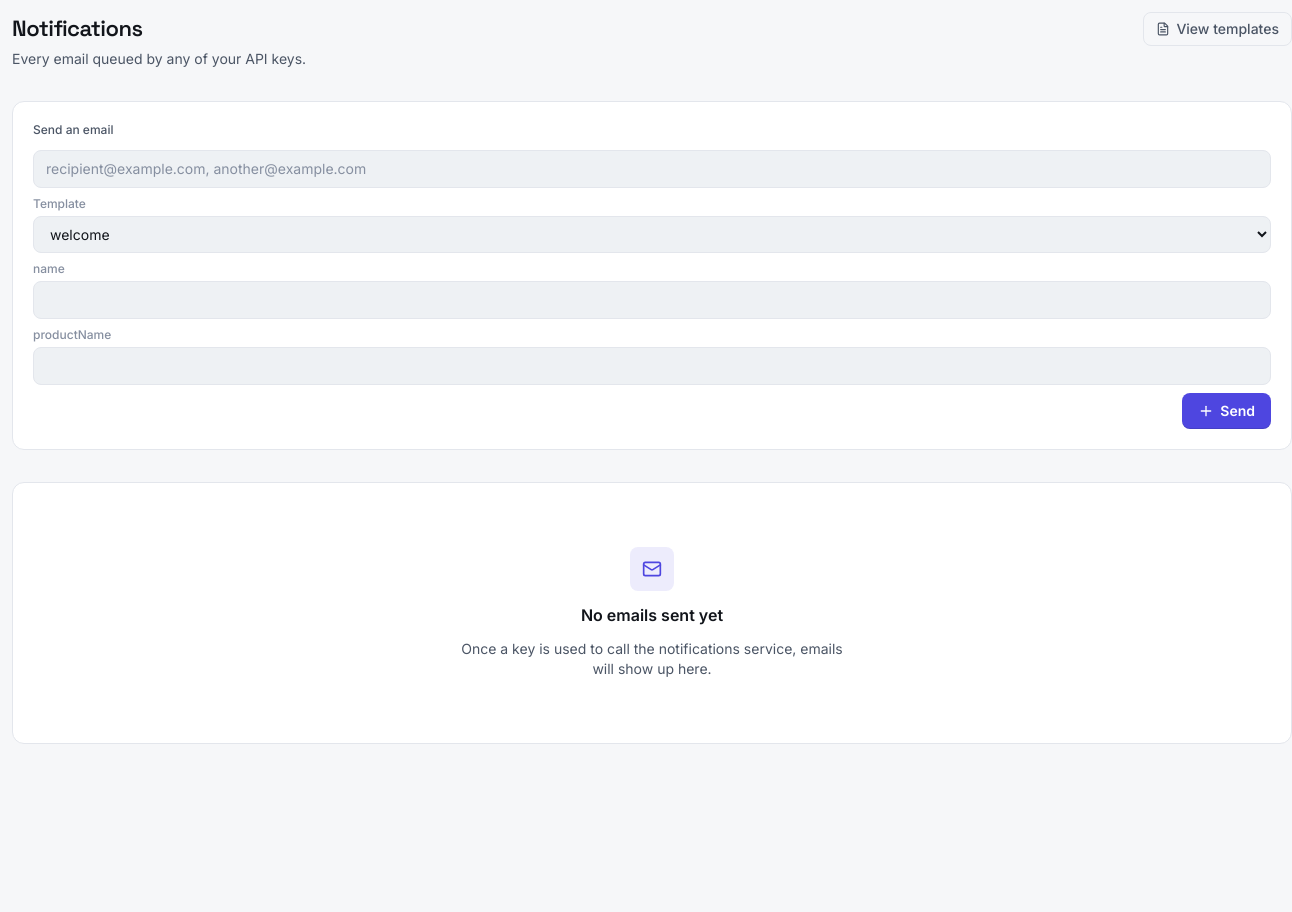
it: NotificationsPage › sends a templated email using the default template, and refreshes the list on success
This screenshot has width=1292, height=912.
expect the dropdown labelled "Template" shows "welcome": met, box left=33, top=216, right=1271, bottom=253
Type "recipient@example.com" into the field with placeholder "recipient@example.com, another@example.com" at (652, 169), box left=33, top=150, right=1271, bottom=188
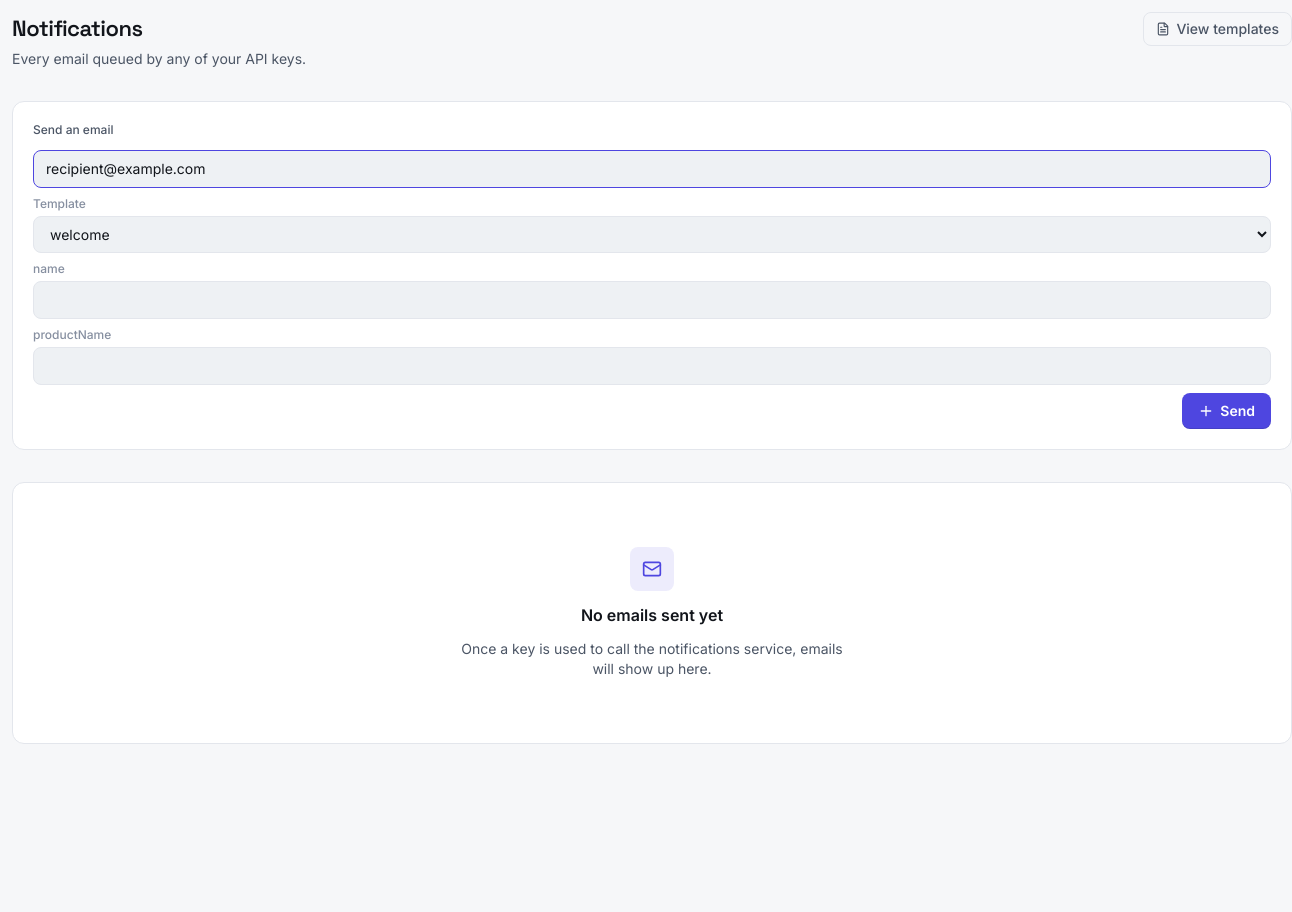
Type "Ada" into the field labelled "name" at (652, 300), box left=33, top=281, right=1271, bottom=319
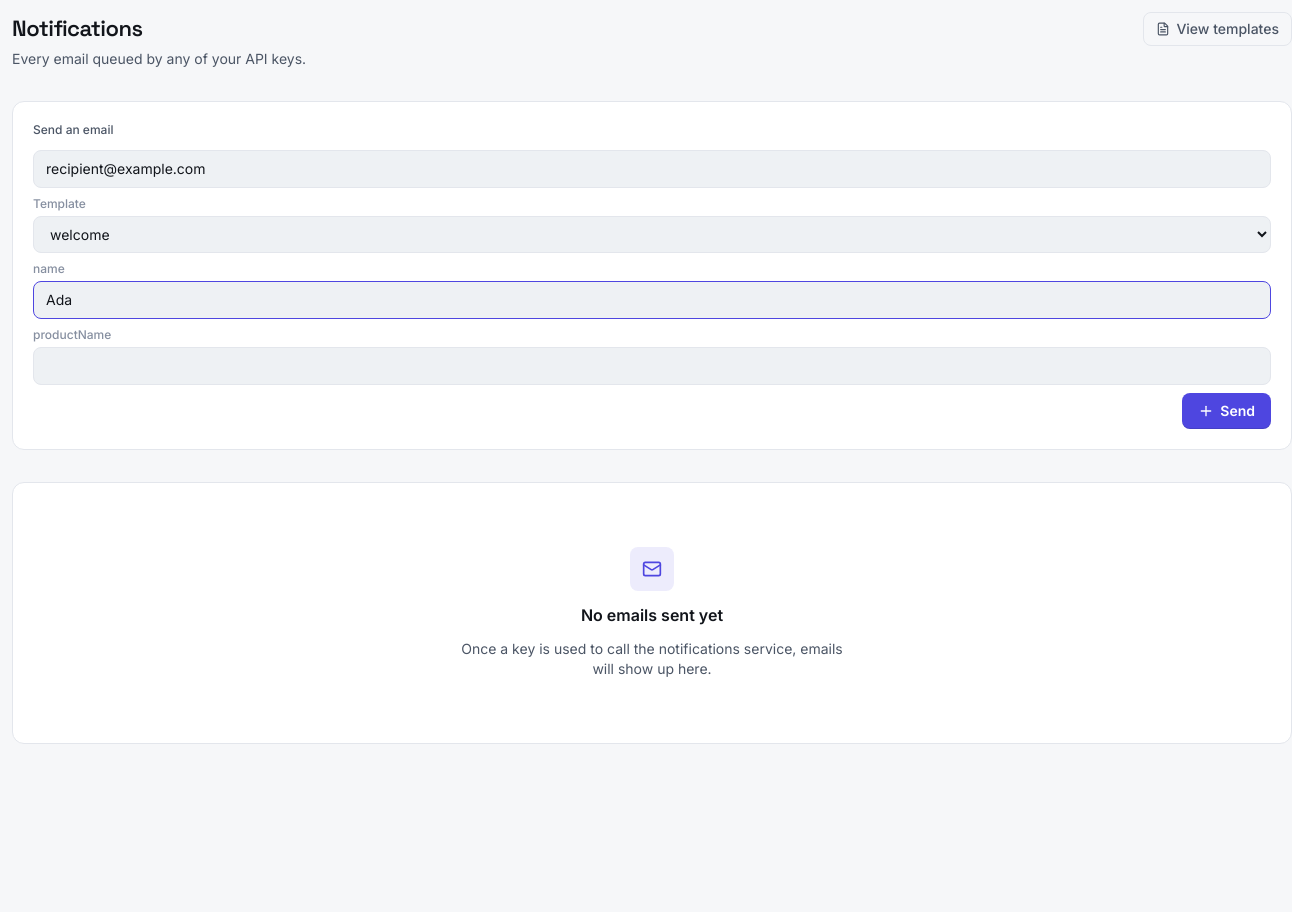
Type "Neuron" into the field labelled "productName" at (652, 366), box left=33, top=347, right=1271, bottom=385
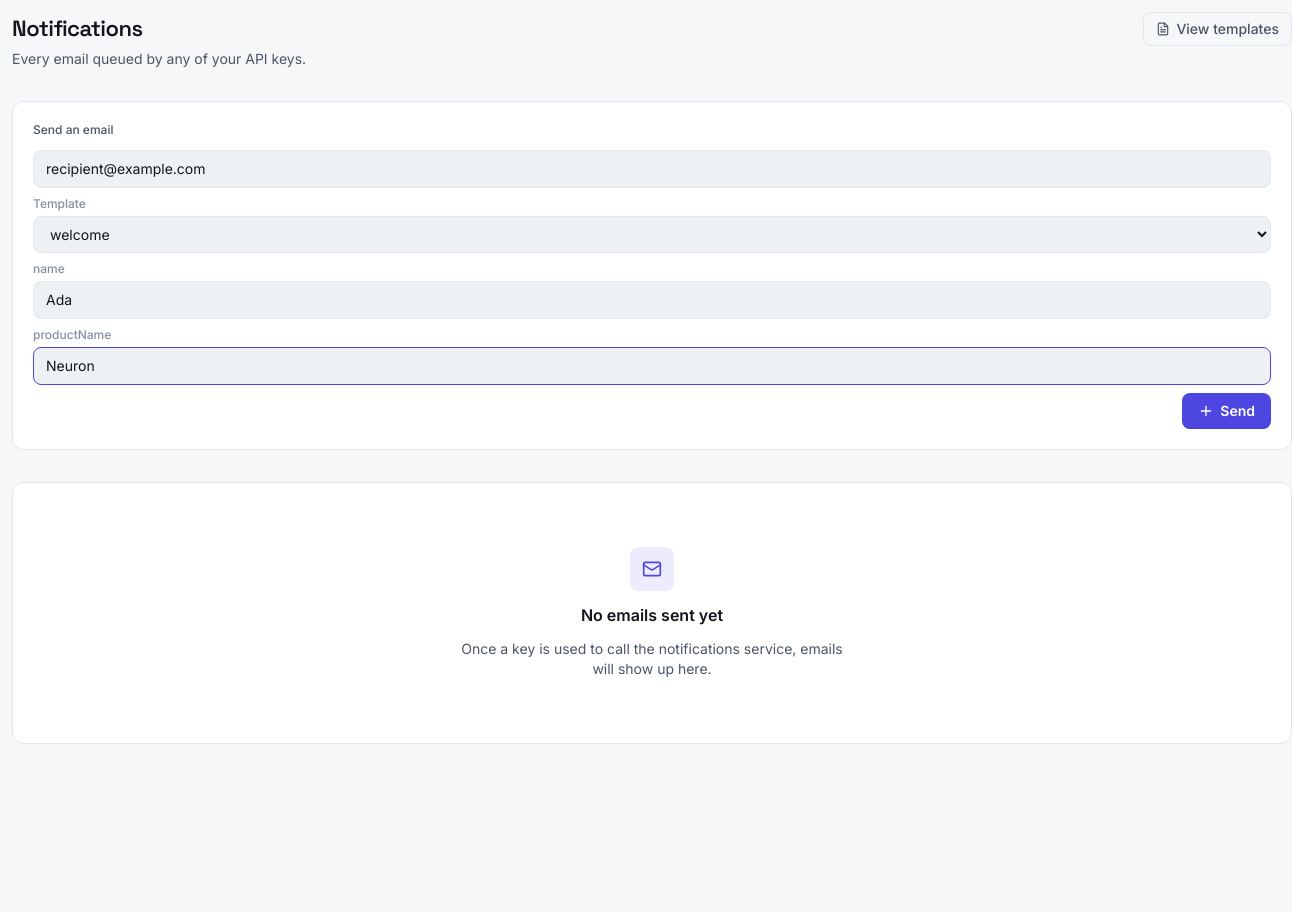
Click the button "Send" at (1227, 411), box left=1182, top=393, right=1271, bottom=429
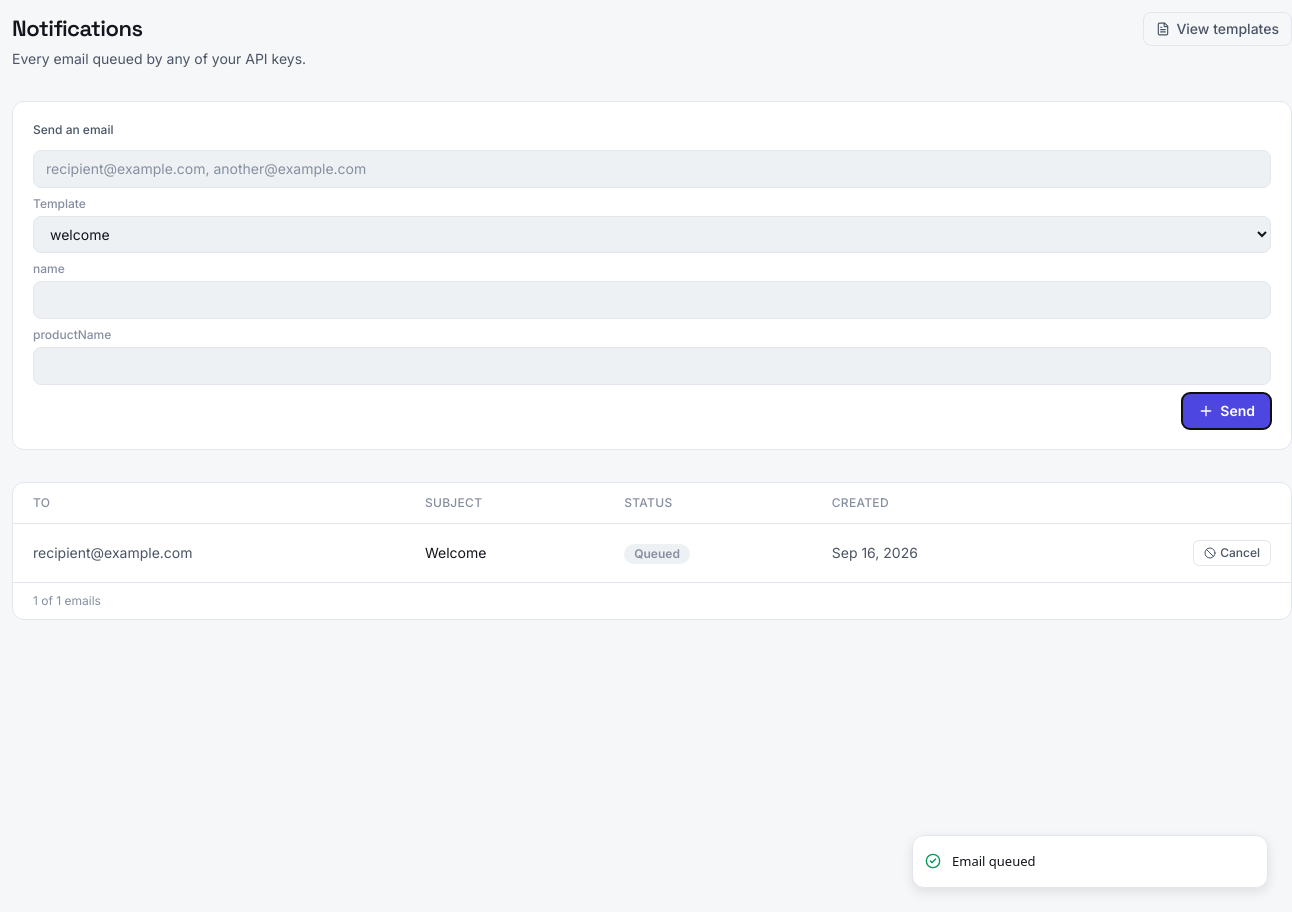
expect the field with placeholder "recipient@example.com, another@example.com" is empty: met, box left=33, top=150, right=1271, bottom=188
expect the text "Welcome" is shown: met, box left=405, top=524, right=604, bottom=582
